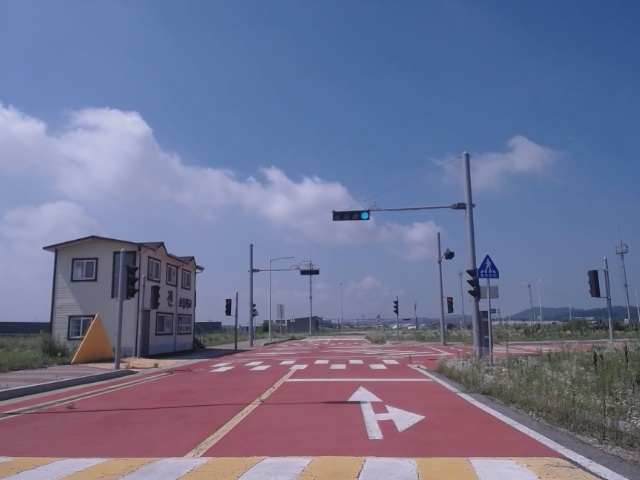straight_green_4: (332, 212, 371, 221)
